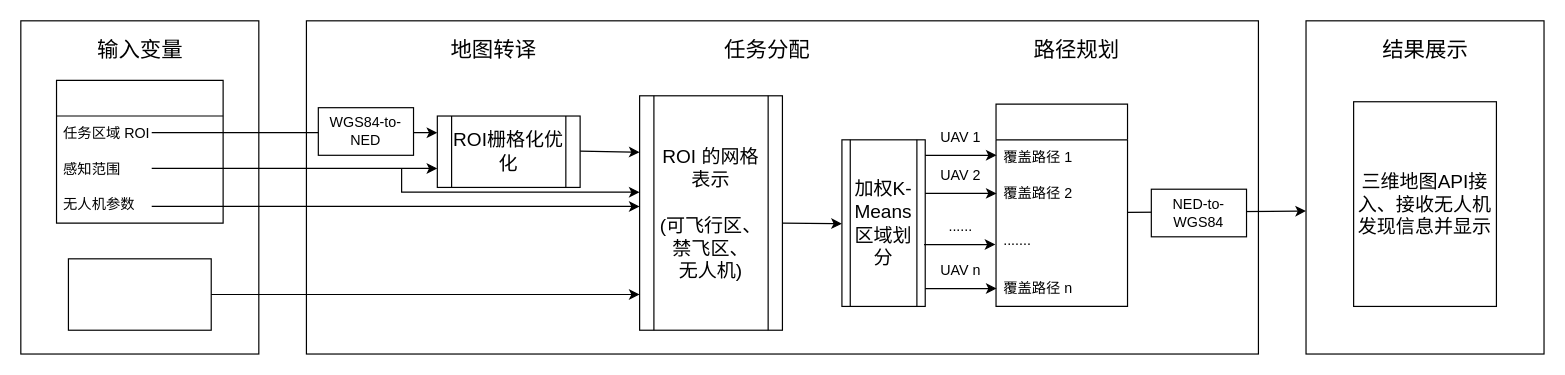
Some shapes in this 1565 by 375 pixel diagram are drawn without their labels. The shapes that lost their labels are listed below. From the top down, each one's box as (x1, y1, x2, y2) in pixels, then its label:
(55, 79, 223, 223): 用户定义参数
(995, 103, 1128, 306): 路径生成
(67, 258, 211, 330): 地图API接入
